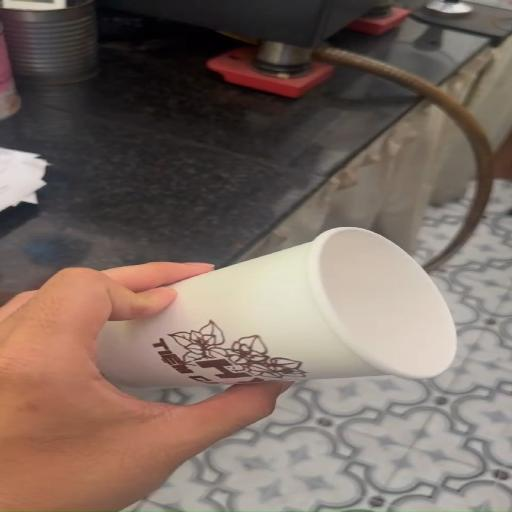Ly_giay: (98, 227, 455, 388)
